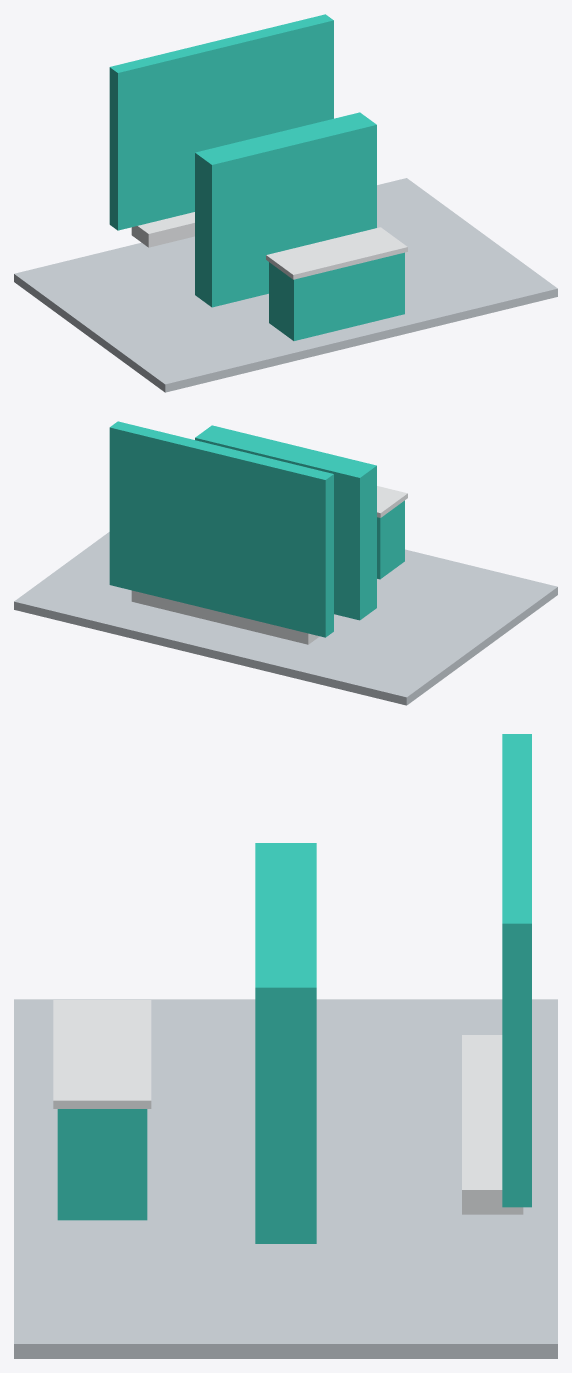
The picture shows the model from 3 angles, top to bottom: view 1: azimuth 30°, elevation 25°; view 2: azimuth 150°, elevation 25°; view 3: azimuth 270°, elevation 25°; orthographic projection. The views are drawn at different scales.
Parts seen in each view (by area): view 1: Exhibition Booth Concept; view 2: Exhibition Booth Concept; view 3: Exhibition Booth Concept.
Boxes of the visible parts, x1=… form: Exhibition Booth Concept: x1=14, y1=14, x2=557, y2=392; Exhibition Booth Concept: x1=14, y1=421, x2=557, y2=705; Exhibition Booth Concept: x1=14, y1=734, x2=557, y2=1358.
Bounding box in the file's own units: 6 × 2.9 × 4.
